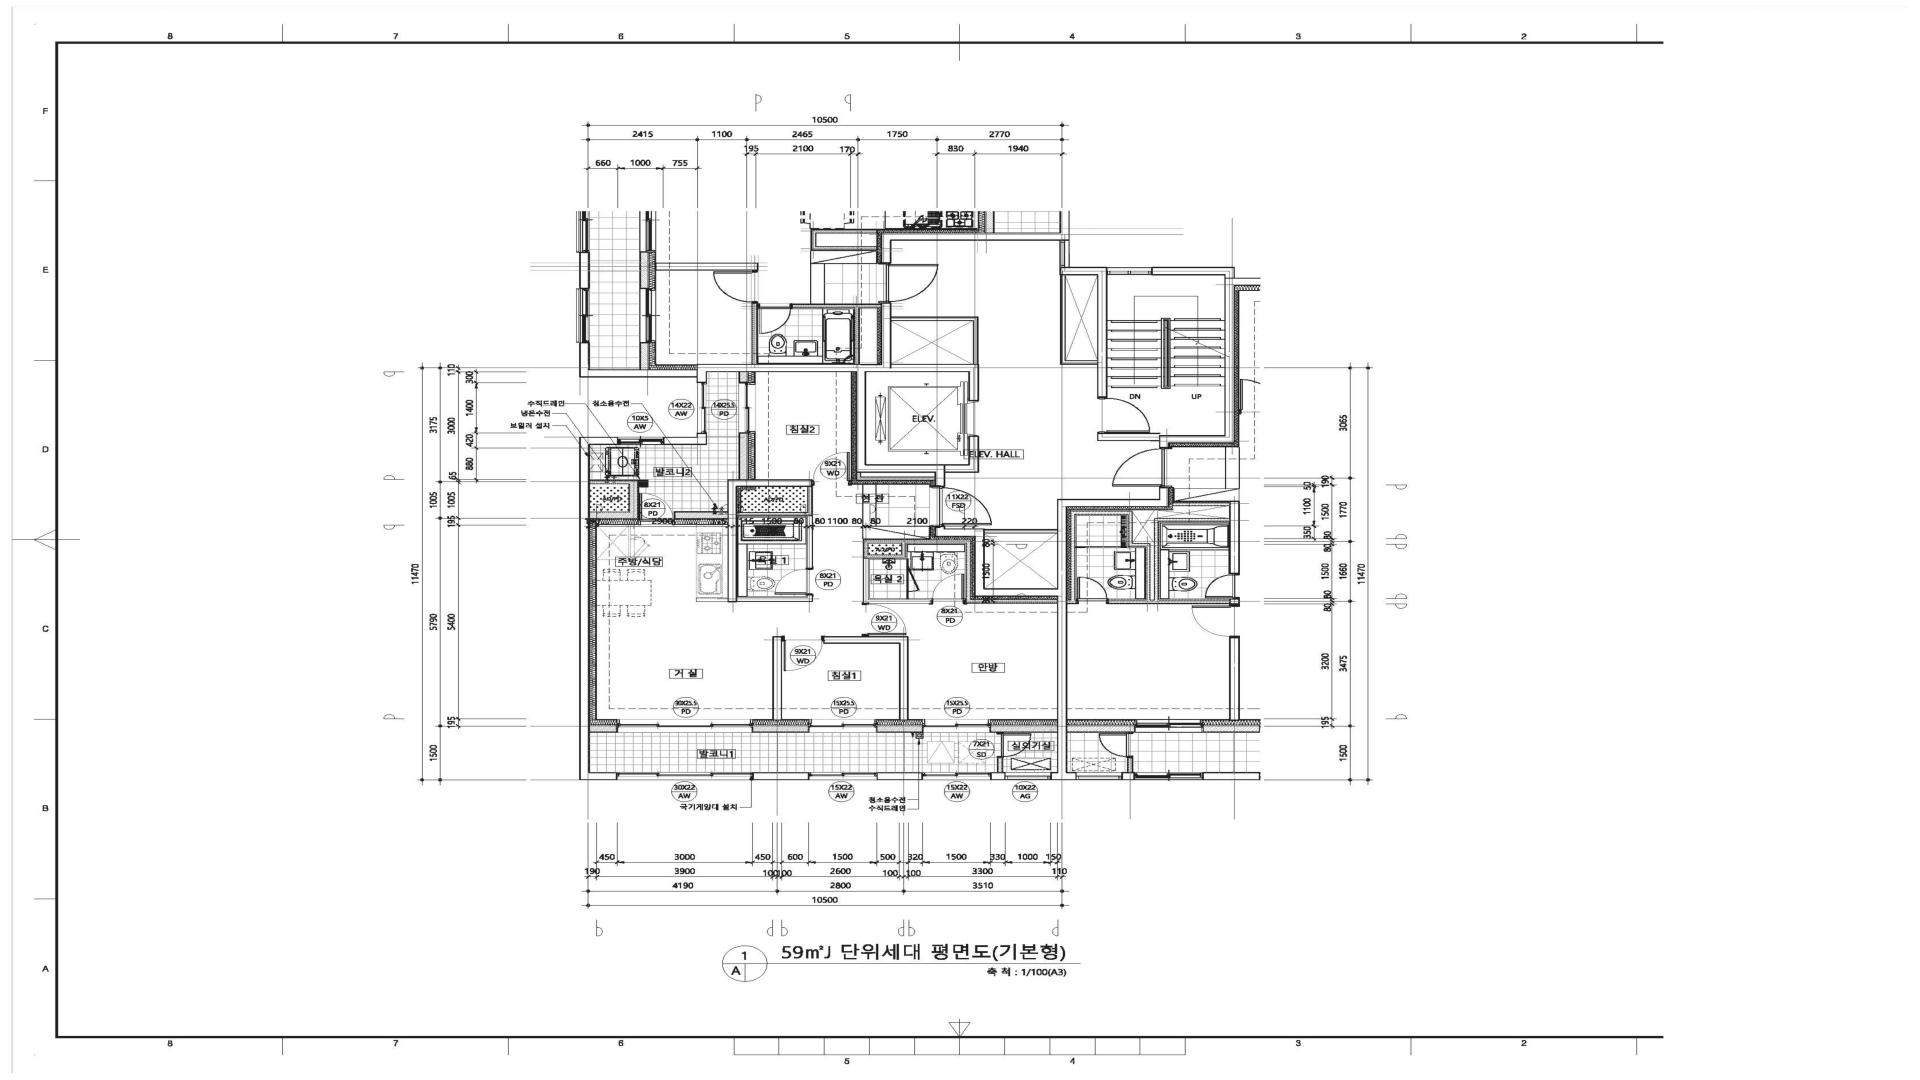door: (939, 486, 993, 526), (1098, 398, 1151, 433), (782, 635, 824, 672), (862, 604, 907, 636), (812, 452, 851, 486), (639, 493, 674, 525), (931, 574, 965, 605), (774, 568, 813, 595), (997, 733, 1032, 757), (906, 566, 920, 592)
wall: (579, 445, 590, 780), (1057, 499, 1067, 772), (697, 364, 979, 372), (1224, 278, 1234, 435), (881, 233, 1070, 241), (1097, 433, 1234, 443), (1097, 275, 1108, 398), (727, 487, 737, 602), (856, 372, 866, 473), (772, 636, 782, 720), (899, 636, 909, 720), (1067, 499, 1169, 507), (866, 464, 945, 473), (727, 479, 813, 487), (974, 536, 985, 597), (1152, 267, 1224, 276), (985, 588, 1057, 597), (881, 303, 891, 364), (824, 636, 899, 644), (1060, 275, 1066, 365), (990, 725, 1057, 733), (737, 595, 813, 602), (674, 511, 727, 520), (752, 772, 809, 780), (753, 725, 809, 733), (891, 316, 978, 321), (971, 599, 1057, 604), (863, 539, 970, 543), (739, 433, 748, 479), (1059, 267, 1107, 275), (876, 725, 923, 733), (877, 772, 923, 780), (806, 516, 813, 568), (945, 528, 985, 537), (985, 529, 1057, 534), (663, 437, 707, 445), (968, 372, 979, 401), (579, 437, 618, 445), (968, 436, 979, 464), (945, 464, 979, 473), (966, 543, 971, 604), (737, 512, 813, 516), (861, 477, 935, 481), (590, 512, 639, 518), (629, 484, 639, 512), (868, 600, 931, 604), (863, 558, 868, 604), (881, 241, 891, 263), (590, 772, 617, 780), (590, 725, 617, 733), (973, 321, 978, 364), (590, 480, 639, 484), (1066, 360, 1097, 365), (863, 554, 901, 558), (807, 487, 813, 512), (1050, 772, 1068, 780), (935, 473, 945, 487), (696, 598, 728, 602), (1224, 267, 1235, 278), (990, 772, 1005, 780), (697, 372, 707, 383), (935, 526, 945, 537), (1159, 488, 1169, 499), (739, 372, 748, 383), (997, 757, 1003, 772), (901, 543, 906, 559), (863, 543, 868, 555), (697, 433, 707, 437), (856, 473, 861, 481), (1159, 443, 1168, 447), (906, 592, 909, 599), (906, 559, 909, 566)
window: (617, 719, 753, 733), (617, 772, 752, 780), (923, 719, 990, 733), (809, 719, 876, 733), (738, 383, 756, 433), (809, 772, 877, 780), (923, 772, 990, 780), (697, 383, 707, 433), (1005, 772, 1050, 780), (618, 437, 663, 445), (1107, 267, 1152, 275), (1059, 241, 1070, 267)
